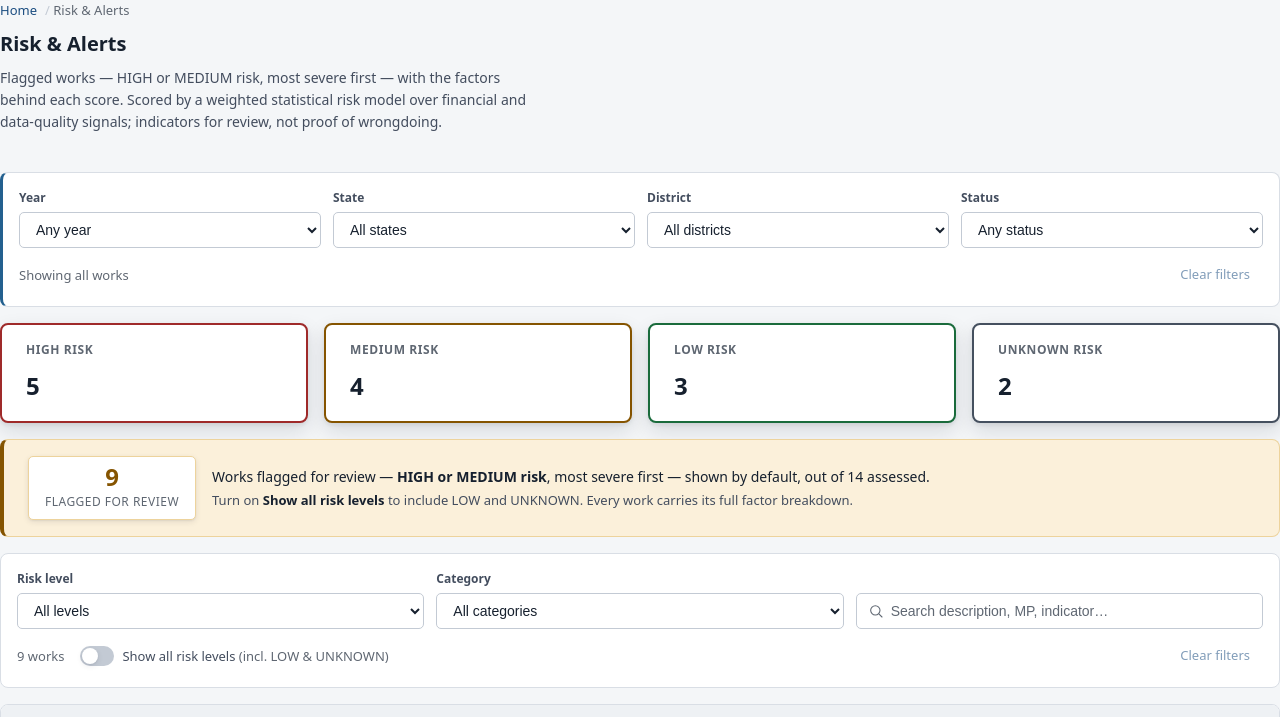
it: RiskAlerts › widens the queue to every level when "Show all risk levels" is toggled on
The width and height of the screenshot is (1280, 717).
Click the checkbox labelled "Show all risk levels (incl. LOW & UNKNOWN)": x=235, y=656 [80,646,389,666]
(page scrolled)
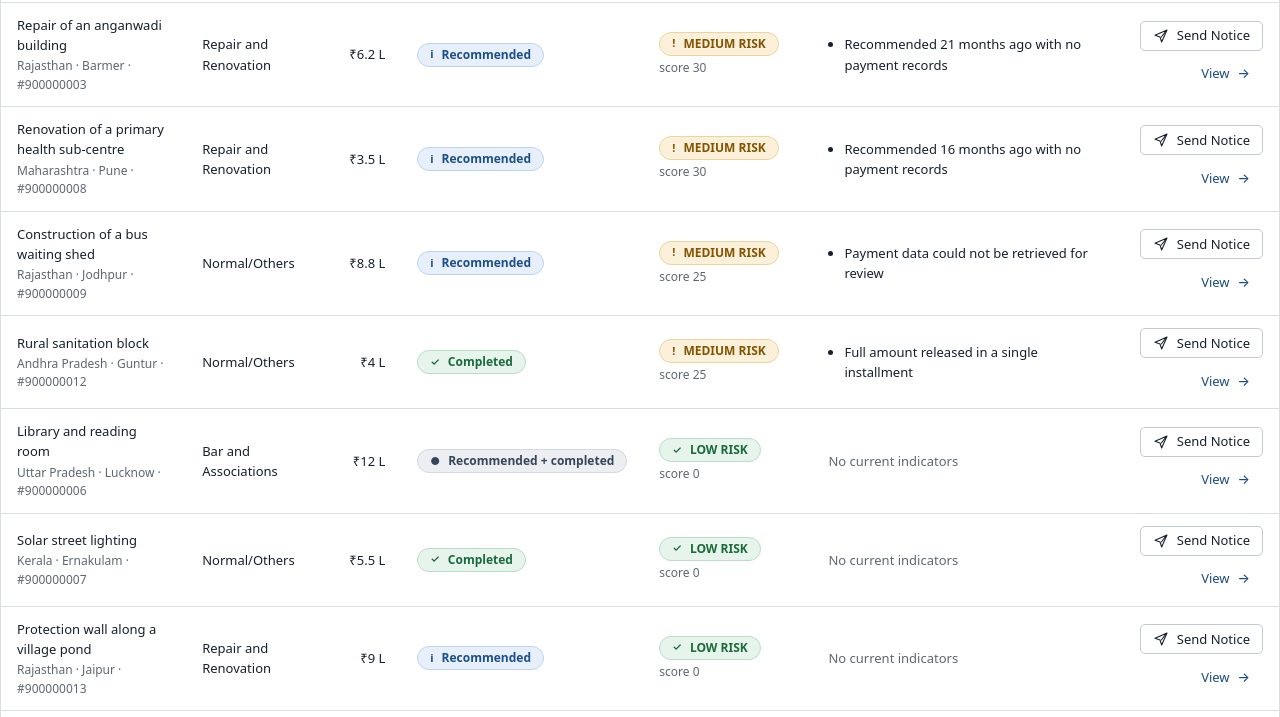
Check: the text "✓ LOW RISK" in the row of "Library and reading room" is shown, box [659,438,761,462]
